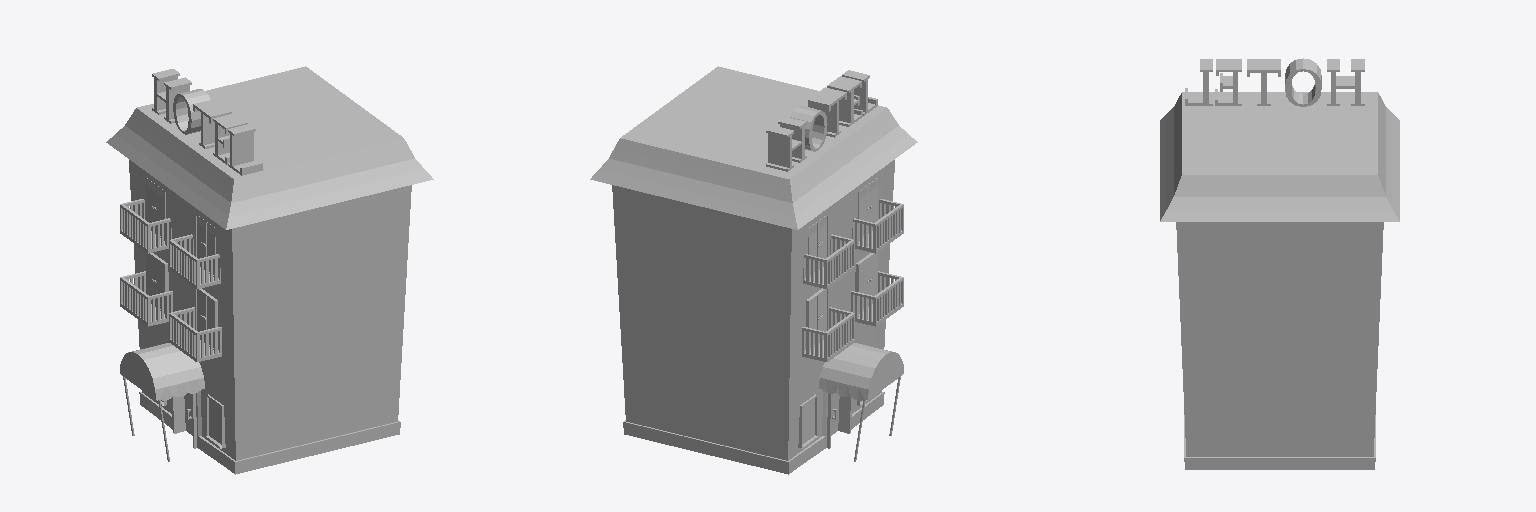
Rendered from 3_CityB_HotelTall_v1_right.obj.
The picture shows the model from 3 angles: view 1: azimuth 30°, elevation 25°; view 2: azimuth 150°, elevation 25°; view 3: azimuth 270°, elevation 25°; orthographic projection.
Parts seen in each view (by area): view 1: CityB_TallHotel_mesh; view 2: CityB_TallHotel_mesh; view 3: CityB_TallHotel_mesh.
Boxes of the visible parts, x1=… form: CityB_TallHotel_mesh: x1=106, y1=66, x2=433, y2=474; CityB_TallHotel_mesh: x1=590, y1=66, x2=917, y2=474; CityB_TallHotel_mesh: x1=1160, y1=58, x2=1399, y2=469.
Size of the model in its own units: 17.47 by 23.64 by 15.38.